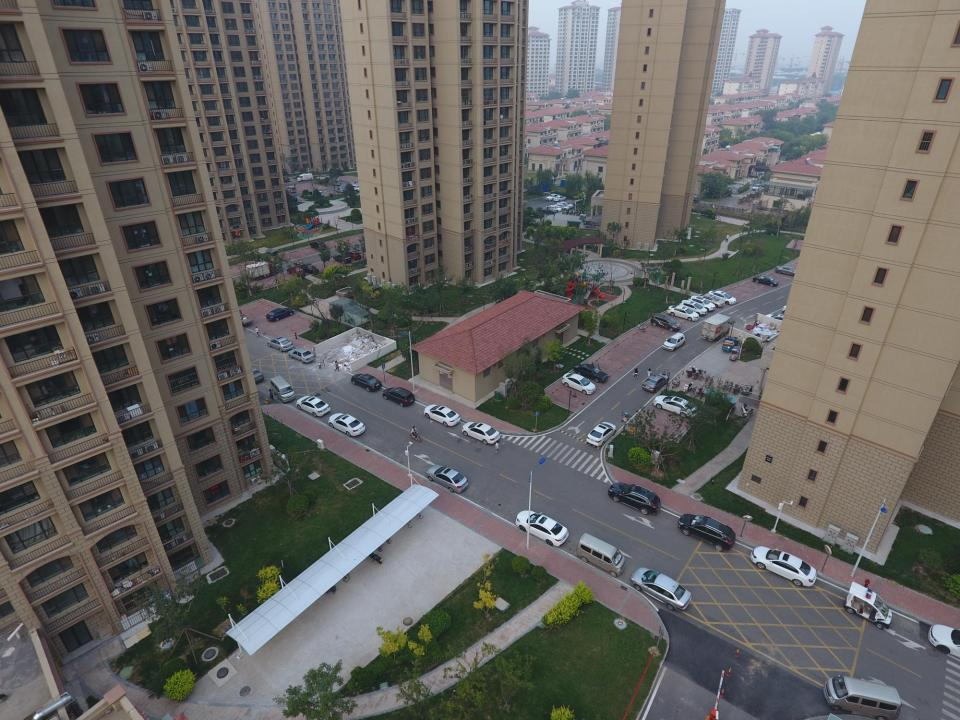car: (823, 675, 901, 720), (751, 546, 816, 588), (631, 567, 691, 610), (574, 532, 626, 578), (844, 582, 893, 630), (678, 512, 736, 552), (516, 509, 569, 548), (608, 482, 661, 515), (426, 464, 467, 494), (927, 624, 960, 658), (653, 394, 697, 418), (328, 412, 365, 437), (461, 422, 500, 445), (424, 404, 460, 426), (587, 421, 617, 446), (562, 373, 596, 395), (297, 396, 331, 416), (270, 375, 296, 401), (573, 363, 607, 382), (383, 387, 415, 407), (351, 373, 381, 393), (650, 313, 680, 331), (678, 298, 709, 315), (668, 304, 699, 320), (642, 374, 666, 392), (289, 347, 315, 363), (663, 332, 685, 350), (266, 308, 294, 322), (688, 295, 714, 310), (709, 290, 736, 304), (753, 274, 778, 288), (701, 292, 724, 307), (268, 338, 292, 352), (248, 366, 264, 383), (239, 310, 253, 326), (287, 266, 305, 277), (775, 266, 796, 274), (333, 254, 351, 263), (309, 240, 325, 250), (302, 263, 316, 273), (297, 173, 313, 181), (347, 251, 361, 260), (539, 207, 556, 214), (752, 183, 765, 192), (558, 201, 573, 208), (553, 204, 570, 210), (546, 194, 560, 201), (546, 206, 561, 212), (317, 174, 329, 180), (554, 196, 566, 202), (350, 184, 360, 191), (335, 187, 345, 193), (285, 187, 295, 192), (334, 178, 340, 186)
truck: (702, 313, 733, 341), (722, 335, 740, 352)
